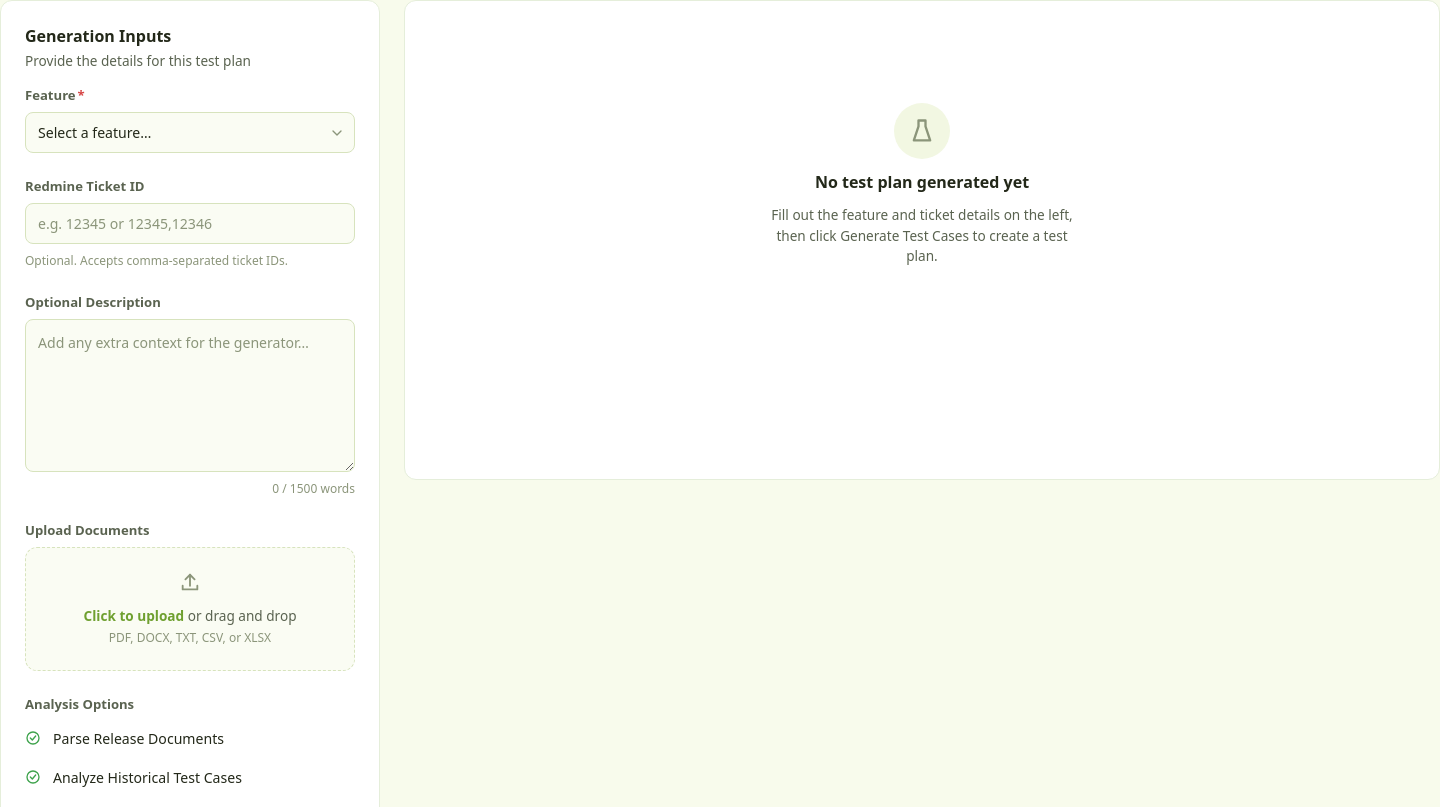
TestPlanGenerator › shows the real backend stage list, without a Redmine step, when no ticket id was given
Select "Appointments" in the dropdown labelled "Feature*" at (190, 132), box [25,112,355,153]
(page scrolled)
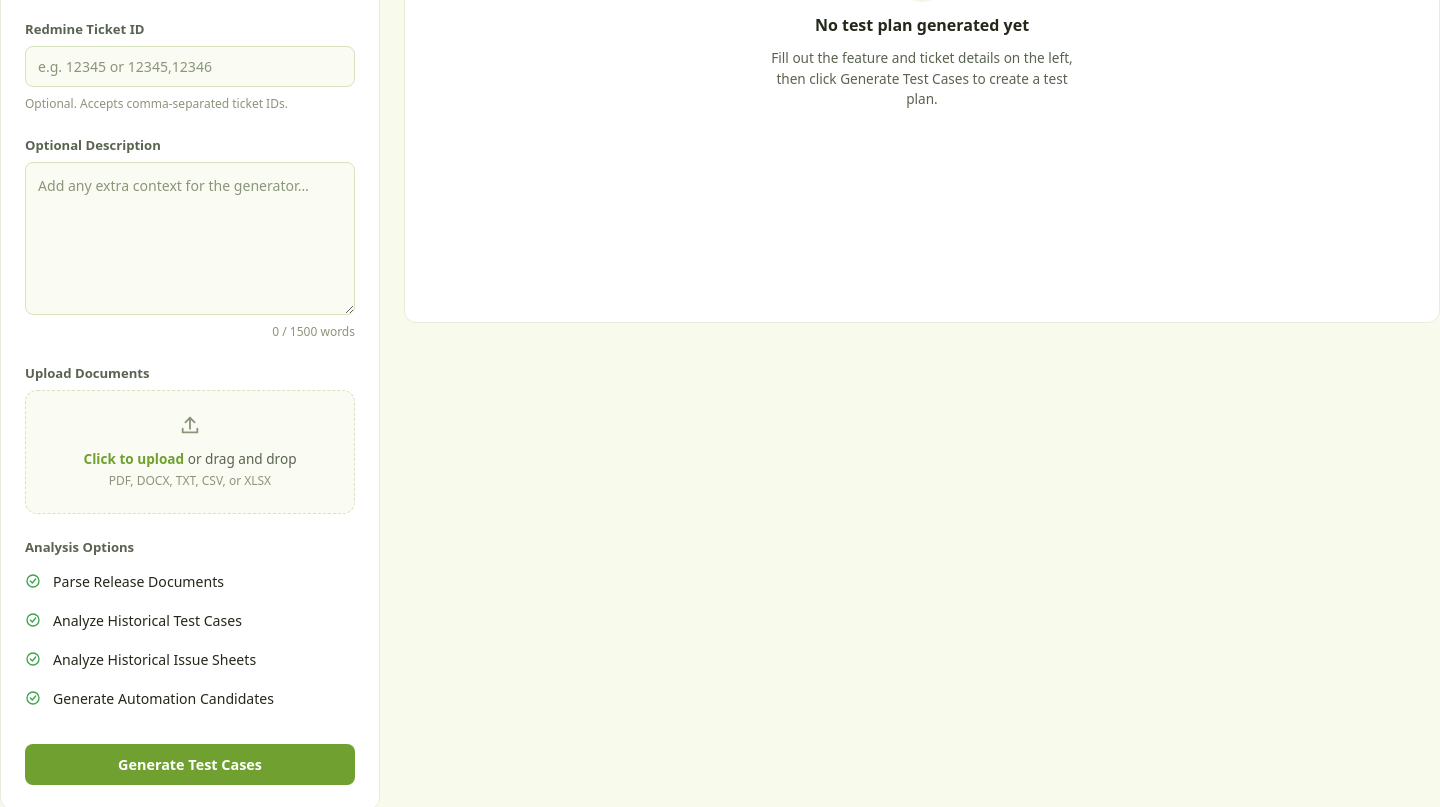
Click the button "Generate Test Cases" at (190, 764), box [25,744,355,785]
(page scrolled)
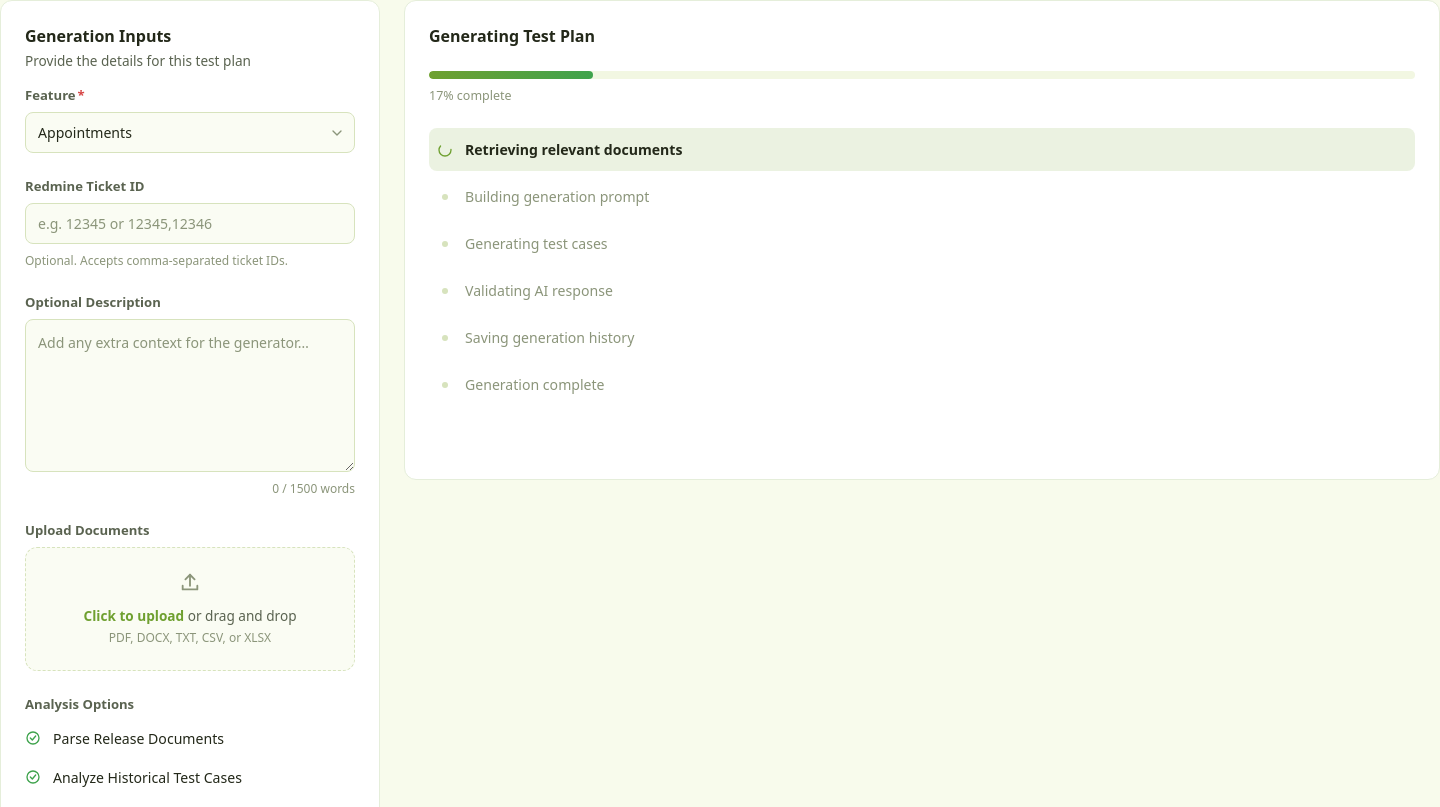
Now the text "Retrieving relevant documents" is shown, box [465,140,682,159]
